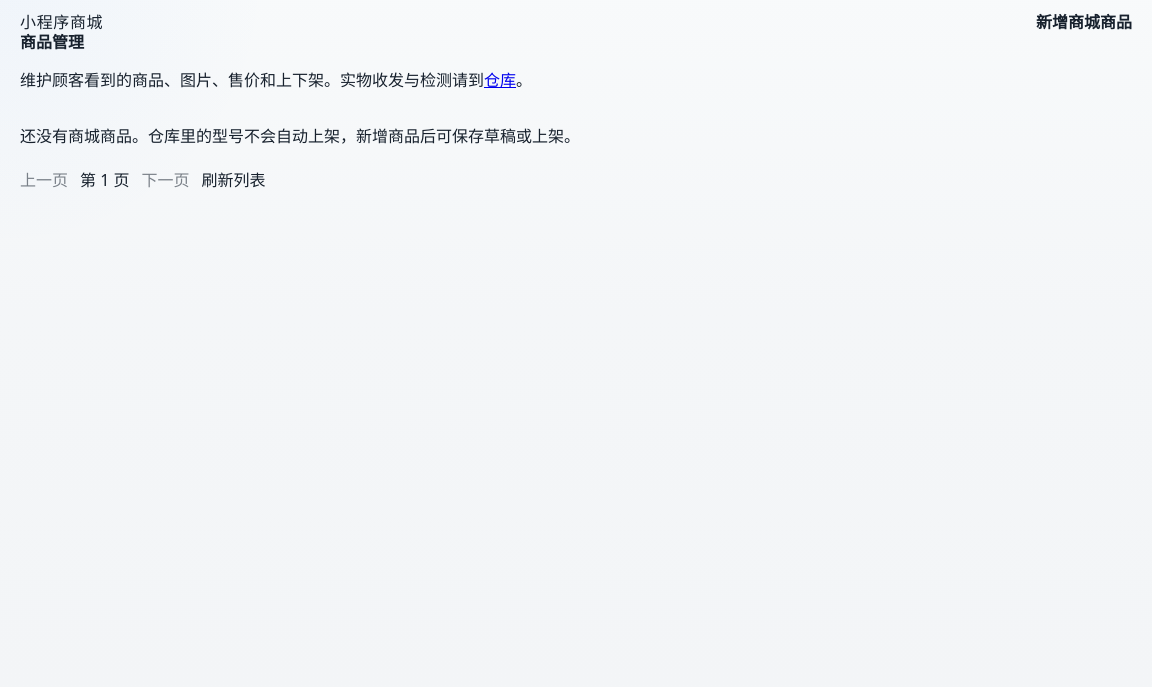
保存失败显示原因并保留输入，相同内容重试沿用操作编号
expect the text "还没有商城商品。仓库里的型号不会自动上架，新增商品后可保存草稿或上架。" is shown: met, box [20,125,580,147]
Click the button "新增商城商品" at (1084, 21), box [1036,9,1132,33]
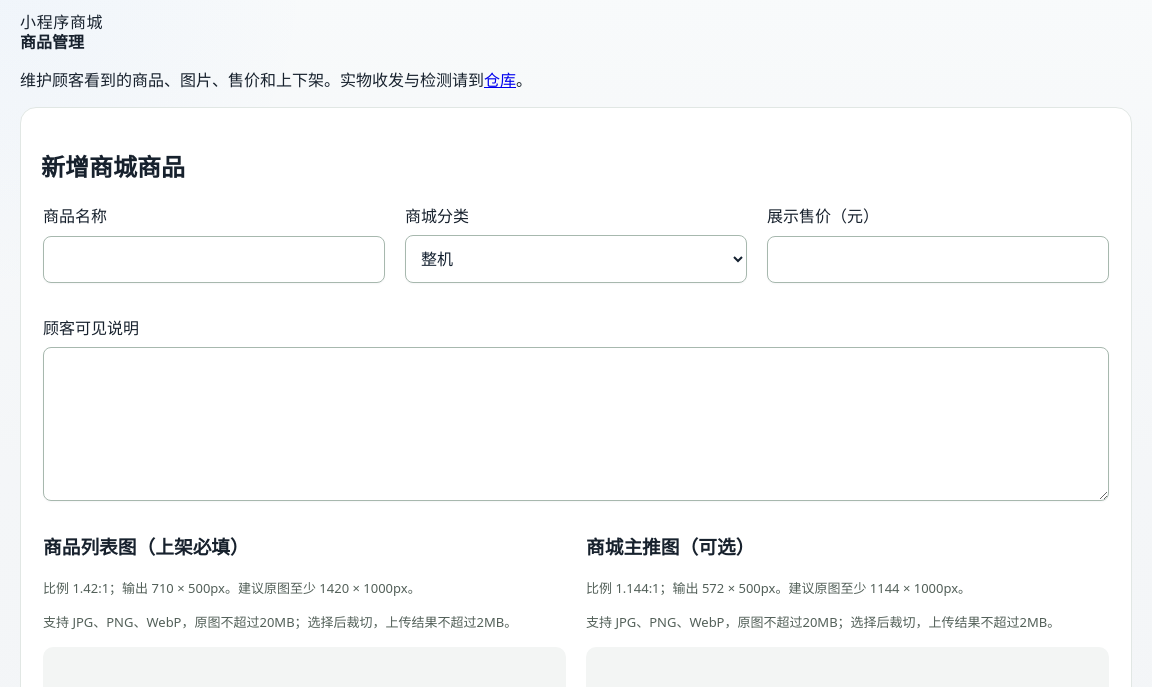
Type "样本显卡" into the field labelled "商品名称" at (214, 260), box [43,236,385,283]
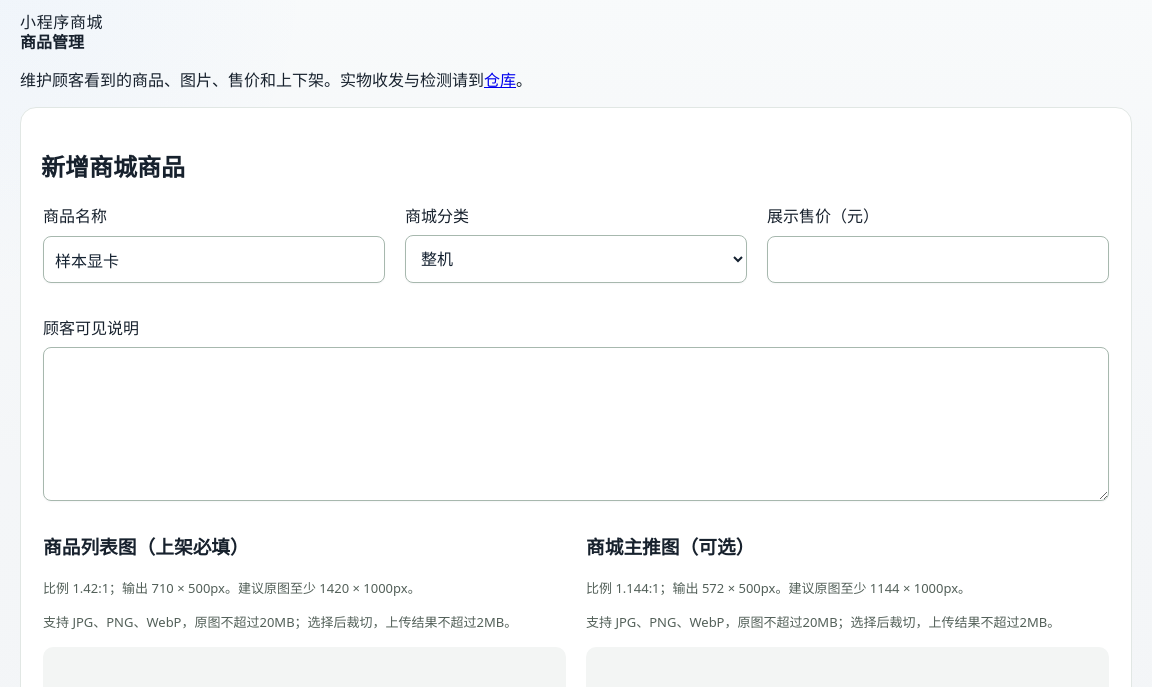
Type "199.99" into the field labelled "展示售价（元）" at (938, 260), box [767,236,1109,283]
(page scrolled)
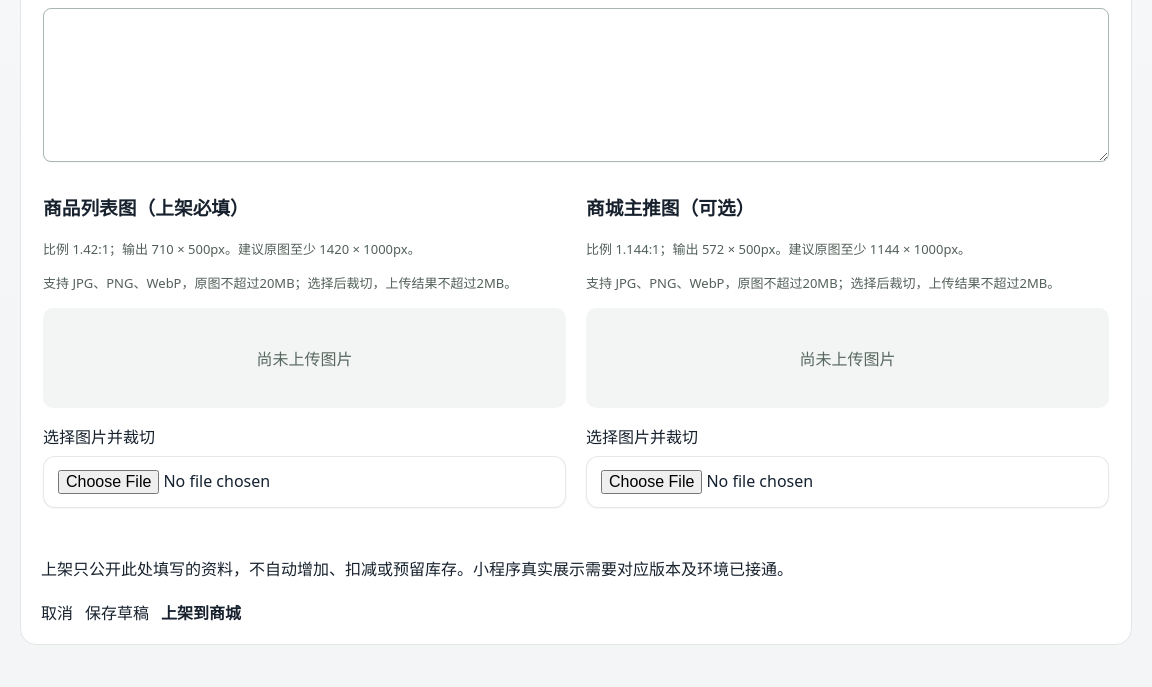
Click the button "保存草稿" at (117, 612), box [85,600,149,624]
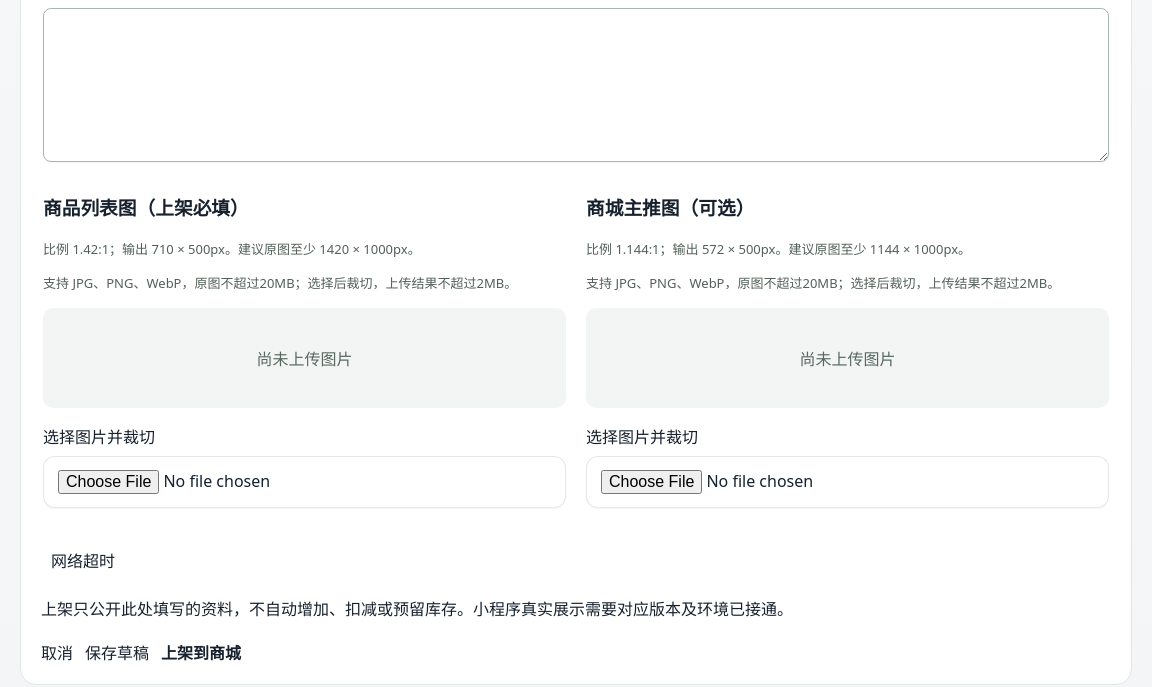
expect the message "网络超时" is shown: met, box [51,550,115,572]
Click the button "保存草稿" at (117, 652), box [85,640,149,664]
(page scrolled)
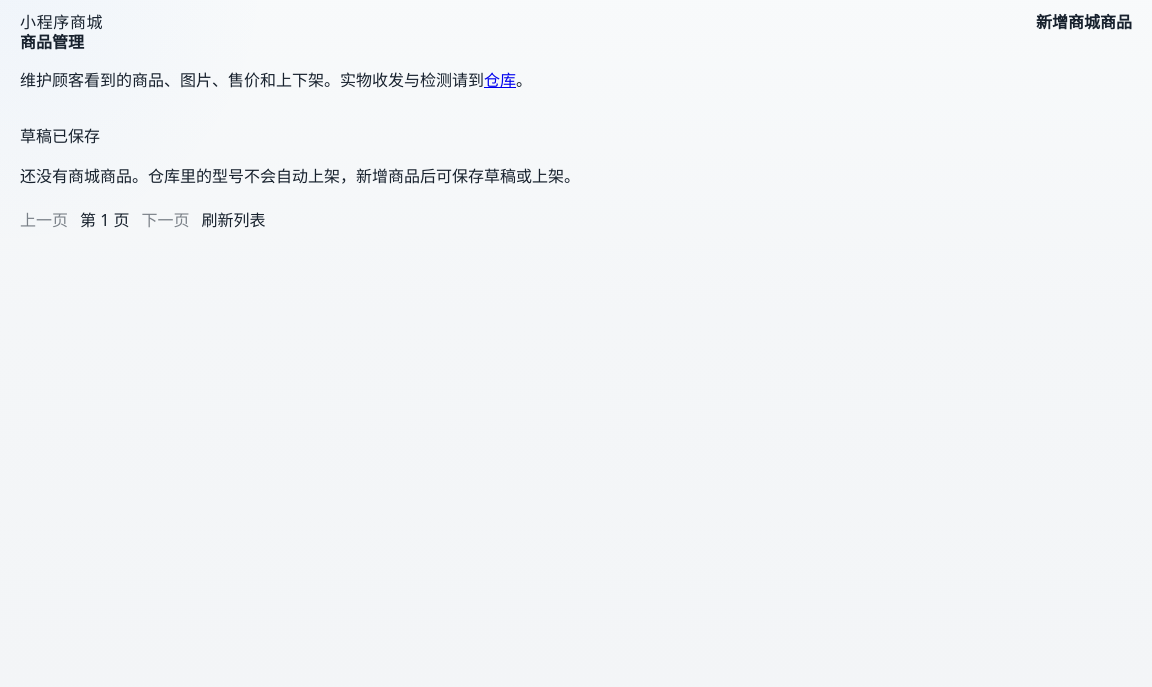
expect the text "草稿已保存" is shown: met, box [20,125,100,147]
